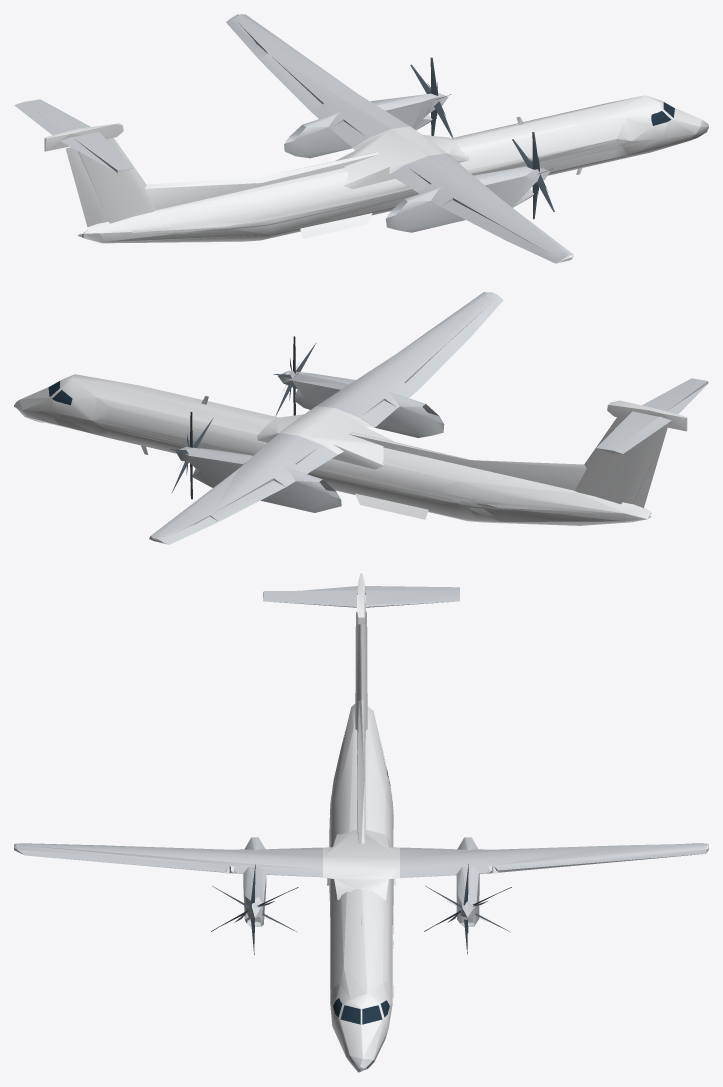
3 views of the same model, one above another, from view 1: azimuth 30°, elevation 25°; view 2: azimuth 150°, elevation 25°; view 3: azimuth 270°, elevation 25° (orthographic). The views are drawn at different scales.
Visible parts, largest first — view 1: hull, wing, tail, band-cheatline, propeller (×2), band-cheatline-trim, band-belly-trim, band-tailcone-trim; view 2: hull, wing, tail, band-cheatline, propeller (×2), band-cheatline-trim, band-belly-trim, band-tailcone-trim; view 3: hull, wing, tail, glass.
Part boxes in pixels (x1,y1,x2,y2): hull: [77, 95, 701, 243]; wing: [14, 14, 708, 263]; tail: [44, 14, 573, 259]; band-cheatline: [132, 139, 625, 232]; propeller (×2): [410, 57, 554, 219]; band-cheatline-trim: [103, 141, 638, 234]; band-belly-trim: [95, 135, 670, 235]; band-tailcone-trim: [229, 168, 508, 223]; hull: [19, 374, 651, 525]; wing: [14, 292, 708, 544]; tail: [151, 400, 687, 540]; band-cheatline: [98, 418, 597, 513]; propeller (×2): [170, 336, 315, 499]; band-cheatline-trim: [85, 420, 627, 515]; band-belly-trim: [53, 415, 636, 515]; band-tailcone-trim: [107, 422, 505, 504]; hull: [224, 704, 498, 1061]; wing: [14, 586, 708, 1072]; tail: [14, 573, 708, 849]; glass: [333, 767, 390, 1024].
Bounding box in the file's own units: 32.8 × 7.88 × 28.4.
